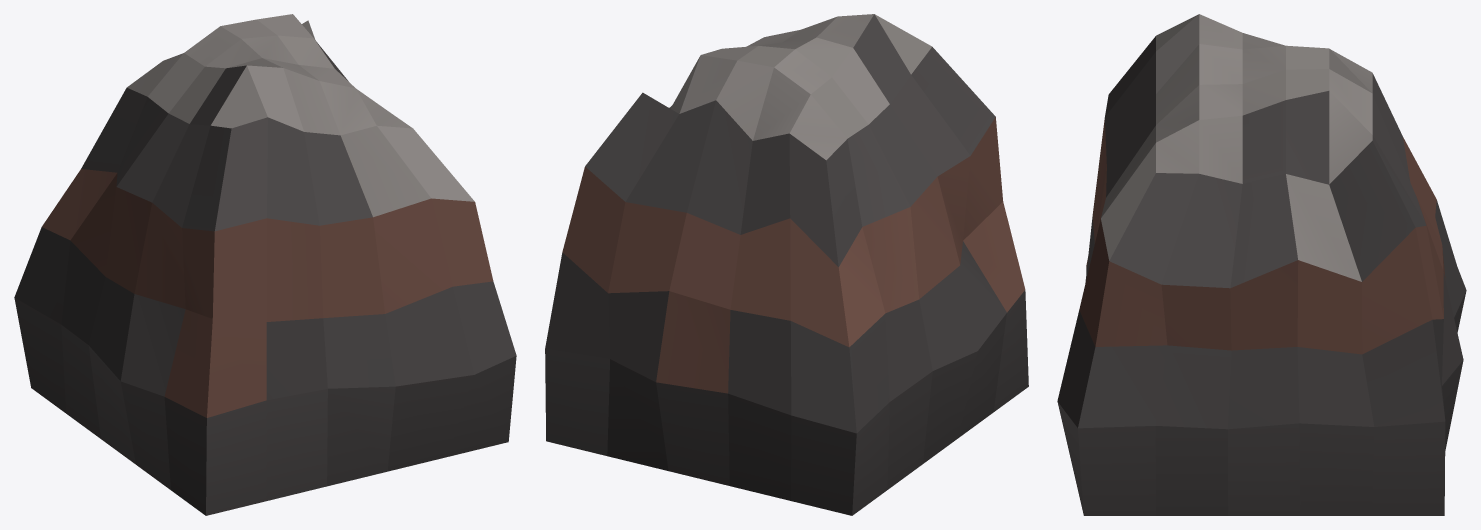
Rendered from roca_suelta_2.glb.
3 views of the same model, side by side, from view 1: azimuth 30°, elevation 25°; view 2: azimuth 150°, elevation 25°; view 3: azimuth 270°, elevation 25° (orthographic). The views are drawn at different scales.
Parts seen in each view (by area): view 1: propforge-cuartos-roca_suelta; view 2: propforge-cuartos-roca_suelta; view 3: propforge-cuartos-roca_suelta.
Boxes of the visible parts, x1=… form: propforge-cuartos-roca_suelta: x1=14, y1=14, x2=516, y2=515; propforge-cuartos-roca_suelta: x1=545, y1=14, x2=1028, y2=515; propforge-cuartos-roca_suelta: x1=1057, y1=14, x2=1466, y2=515.
Size of the model in its own units: 0.8592 by 0.9745 by 0.9074.
